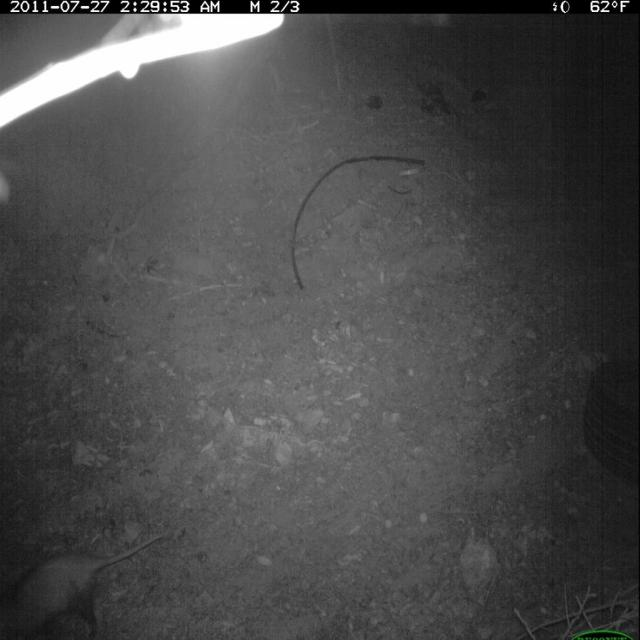opossum: (1, 526, 174, 640)
